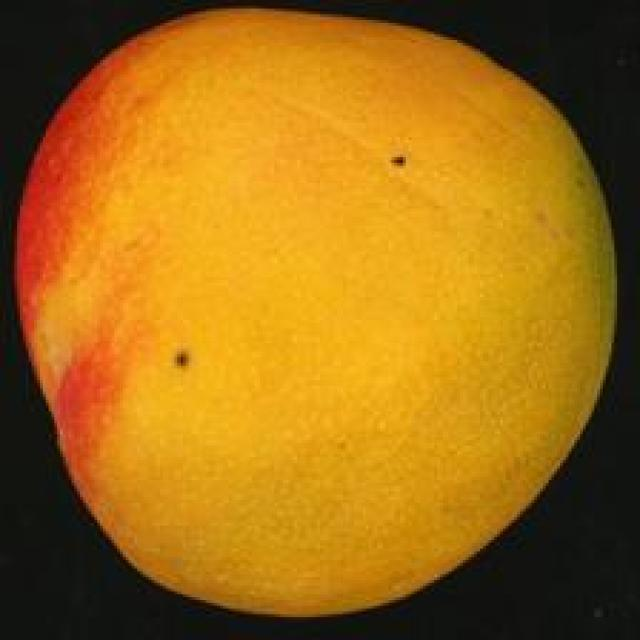Mango: (7, 16, 640, 625)
